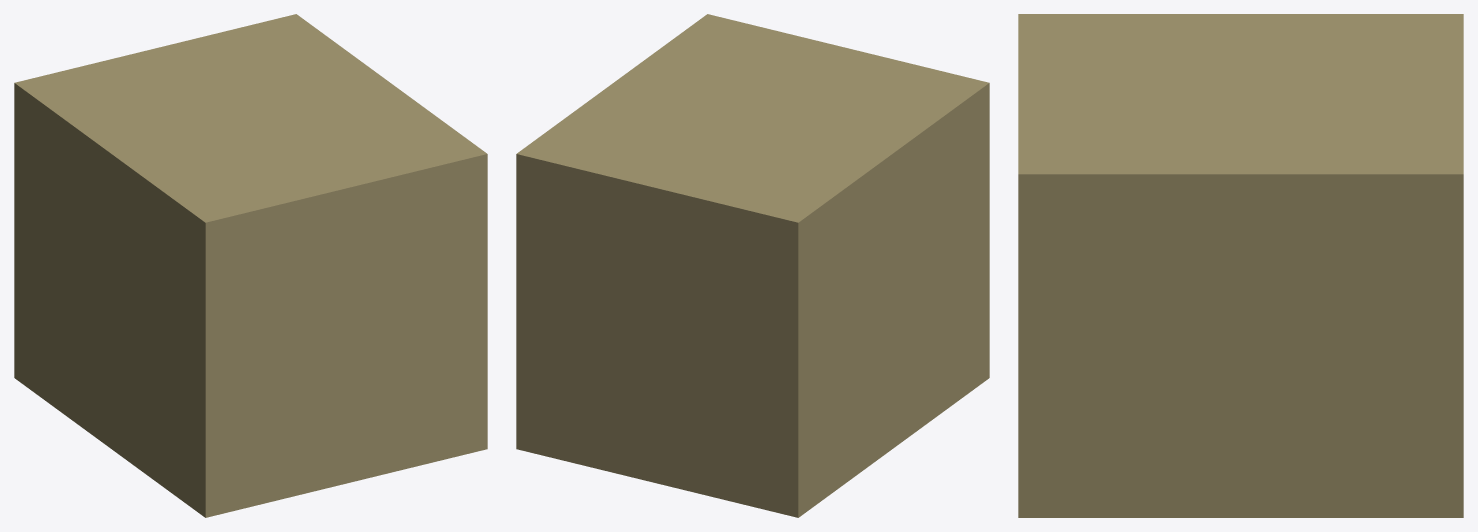
File: Stoles Box.dae
The picture shows the model from 3 angles, left to right: view 1: azimuth 30°, elevation 25°; view 2: azimuth 150°, elevation 25°; view 3: azimuth 270°, elevation 25°; orthographic projection. The views are drawn at different scales.
Parts seen in each view (by area): view 1: group_1; view 2: group_1; view 3: group_1.
Boxes of the visible parts, x1,y1,x2,y2 form: group_1: [14, 14, 487, 517]; group_1: [516, 14, 989, 517]; group_1: [1018, 14, 1463, 517].
Size of the model in its own units: 19.69 by 23.11 by 19.69.
